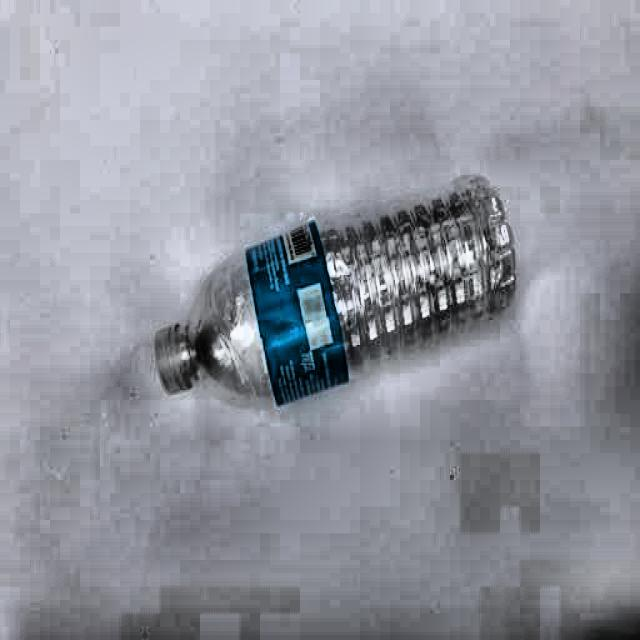plastic: (152, 174, 517, 412)
